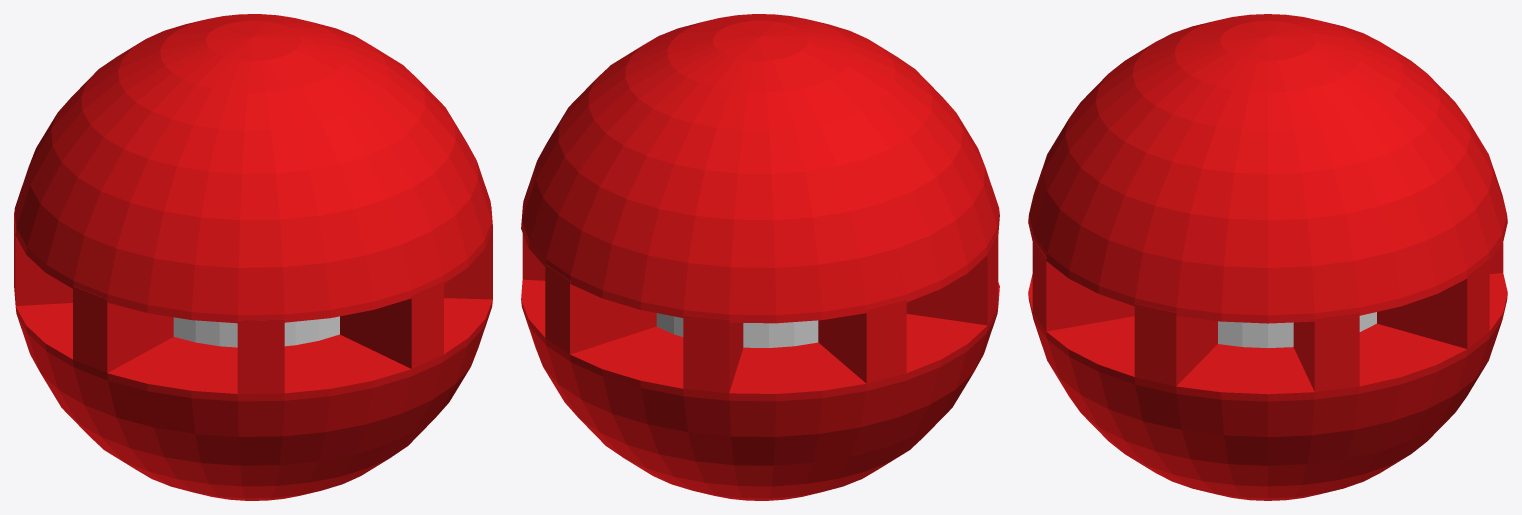
The model's file is random red ball.fbx.
The picture shows the model from 3 angles, left to right: view 1: azimuth 30°, elevation 25°; view 2: azimuth 150°, elevation 25°; view 3: azimuth 270°, elevation 25°; orthographic projection.
Visible parts, largest first — view 1: Sphere; view 2: Sphere; view 3: Sphere.
Part boxes in pixels (x1,y1,x2,y2): Sphere: (14,14,492,500); Sphere: (521,14,999,500); Sphere: (1028,14,1507,500).
Bounding box in the file's own units: 197 × 200 × 197.
